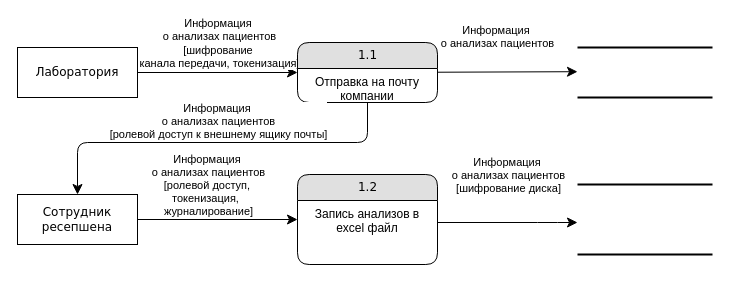
The diagram is 731 pixels wide and 285 high, and some of its shapes have lost their labels. Here are the shapes that lost their labels. From the top down, the centre of each, then its label:
(x=644, y=72): Почтовый сервер
(x=644, y=219): Excel файл RegistryByDate
